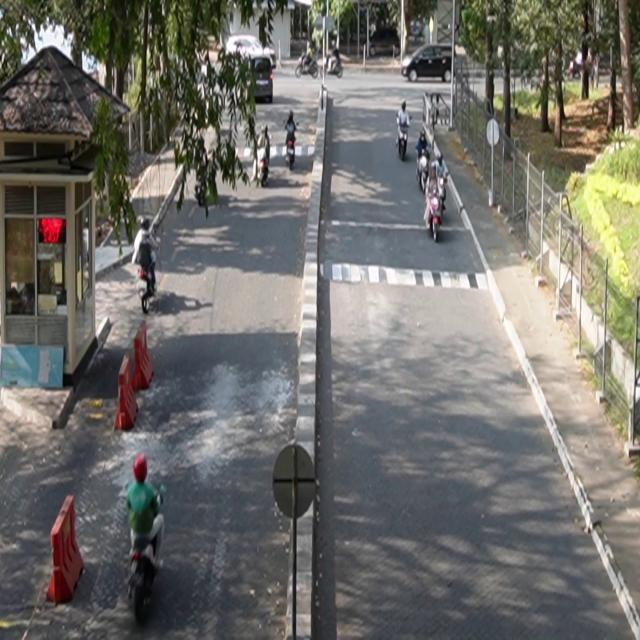car: (402, 44, 468, 83)
